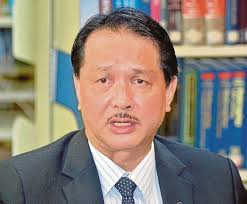middle_eastern_male: (65, 22, 183, 142)
